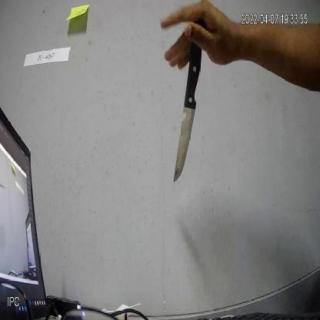knife: (173, 15, 209, 189)
